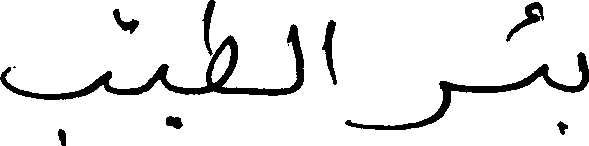ئ: (504, 0, 551, 88)
ا: (321, 17, 338, 84)
ب: (0, 63, 112, 144), (553, 49, 587, 133)
ر: (393, 79, 451, 130)
ط: (201, 0, 237, 95)
ل: (287, 22, 305, 95)
ي: (153, 61, 183, 129)
